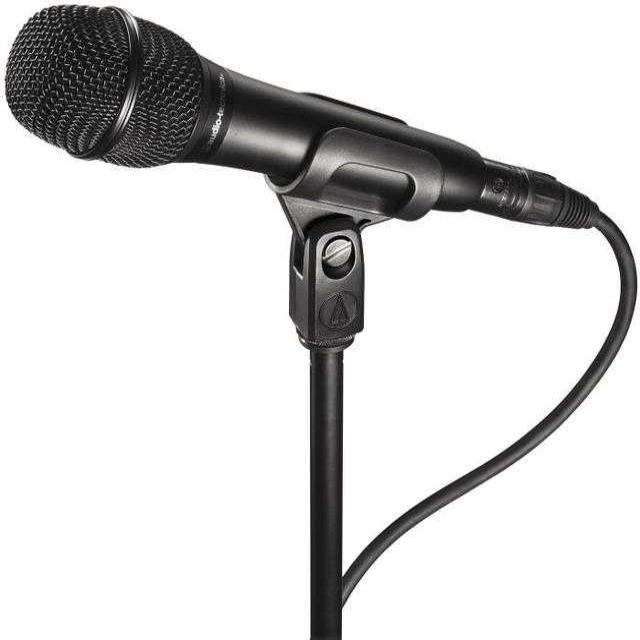microphone: (5, 5, 628, 256)
